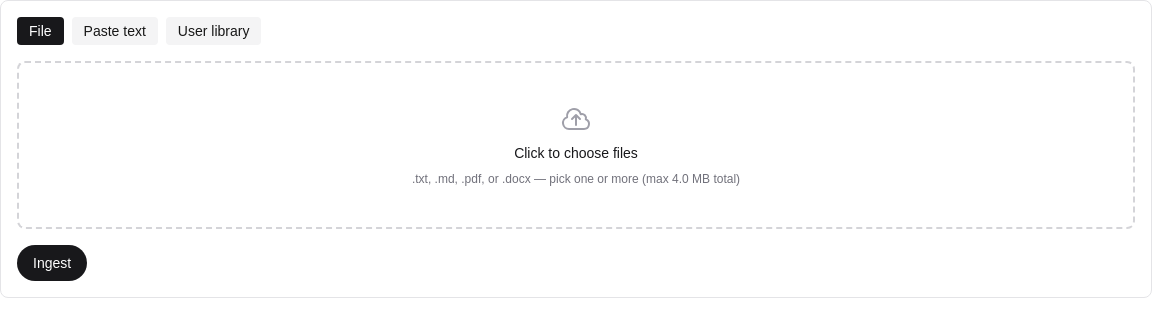
Scenario: FileUpload › library mode: loads the list, says so when empty, and never enables Ingest with nothing picked
Click the button "User library" at (214, 31), box [166,17,261,45]
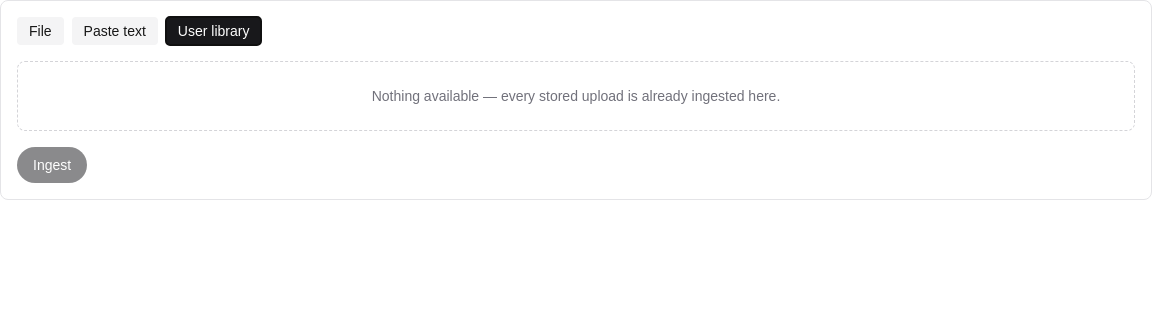
Expected: the text "Nothing available" is shown, [372,88,780,104]
Expected: the button "Ingest" is disabled, [17,147,87,183]
